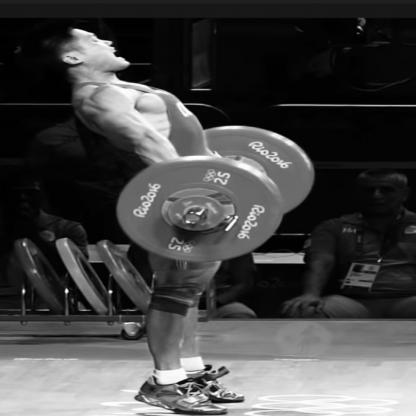Barbell: (114, 154, 292, 270)
